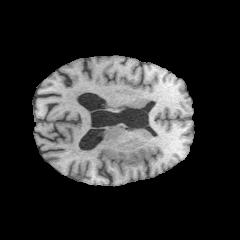glioma: (98, 148, 156, 177)
